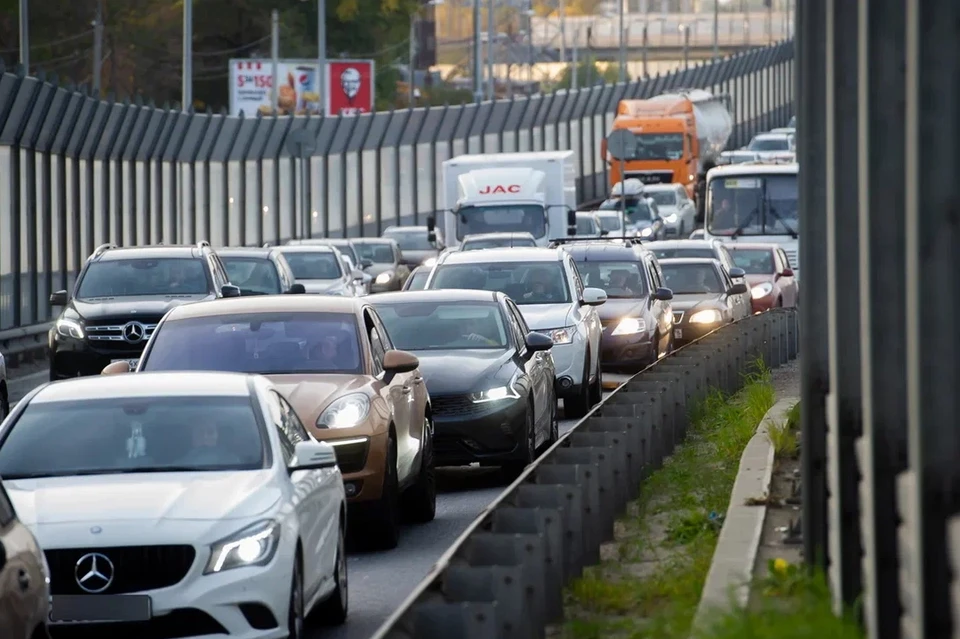Car: (0, 370, 349, 639), (102, 295, 437, 553), (362, 289, 559, 481), (426, 247, 607, 418), (47, 240, 241, 383), (548, 236, 674, 370), (611, 87, 734, 218), (426, 150, 577, 254), (704, 162, 800, 282), (641, 237, 752, 316), (658, 257, 747, 349), (0, 479, 51, 639), (726, 242, 799, 315), (263, 243, 363, 296), (215, 248, 307, 296), (599, 178, 668, 241), (347, 237, 411, 294), (645, 182, 698, 239), (285, 238, 374, 271), (381, 225, 438, 271), (739, 132, 797, 163), (459, 232, 538, 251), (590, 209, 638, 236), (342, 255, 372, 296), (575, 211, 609, 237), (402, 266, 432, 291), (0, 352, 9, 422), (722, 150, 763, 164), (689, 228, 704, 239), (770, 127, 796, 132)
